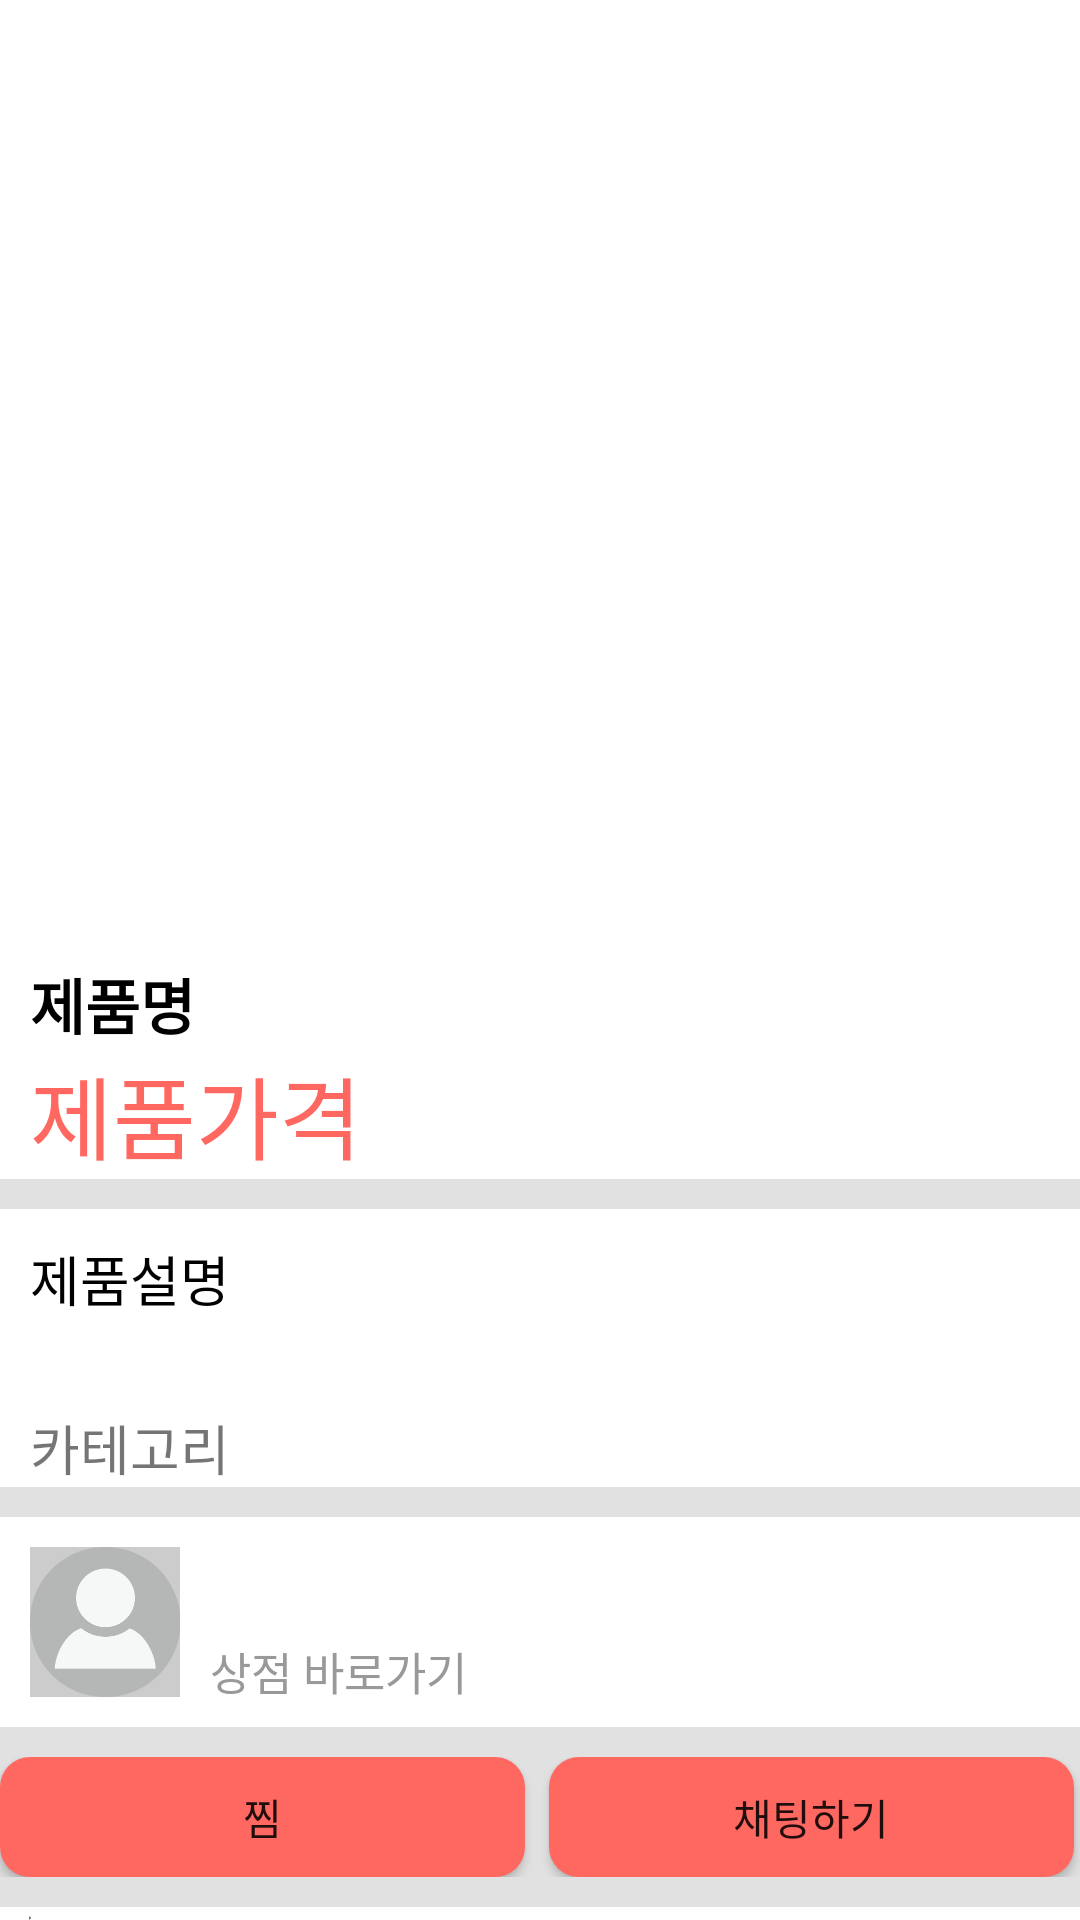

Icons on this 1080×1920 Android screen, each with the point to tap as [x,y]:
profile: [105,1622]
